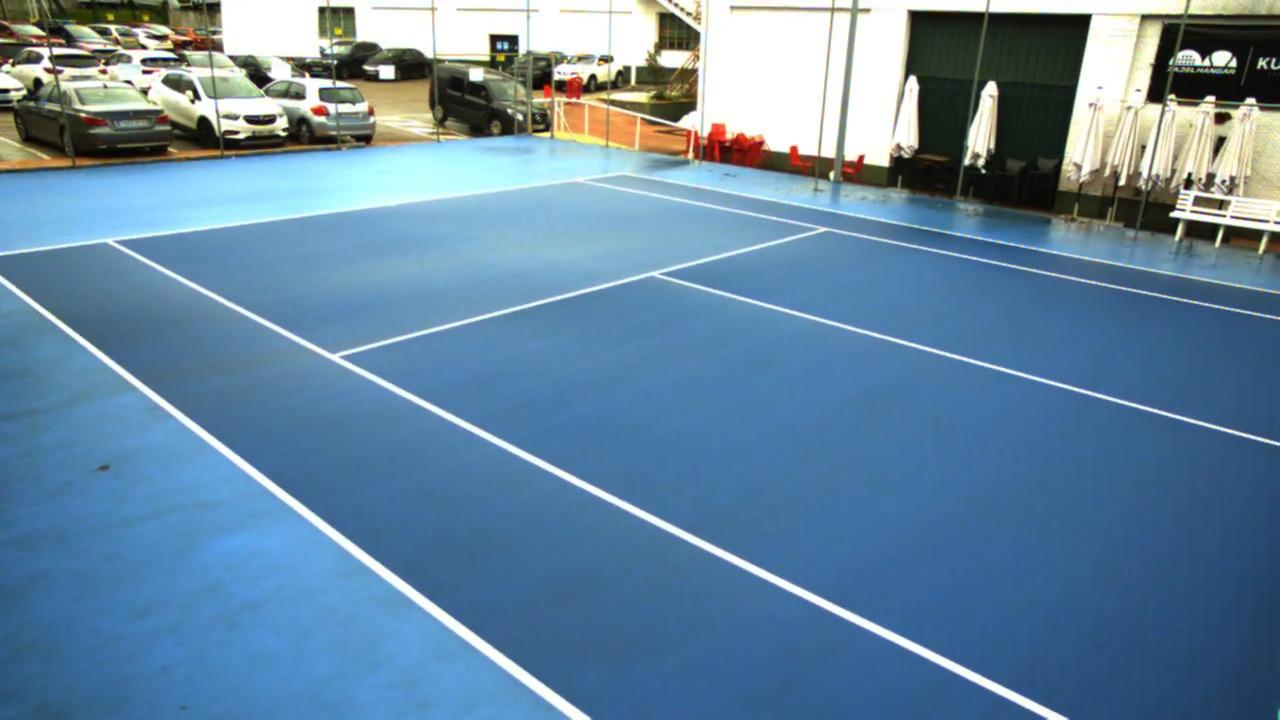cancha_tenis: (110, 176, 1280, 720)
point_f1: (98, 233, 126, 251)
point_f2: (565, 170, 599, 191)
point_i1: (319, 342, 360, 372)
point_i2: (809, 218, 839, 240)
point_ic1: (635, 260, 680, 286)
